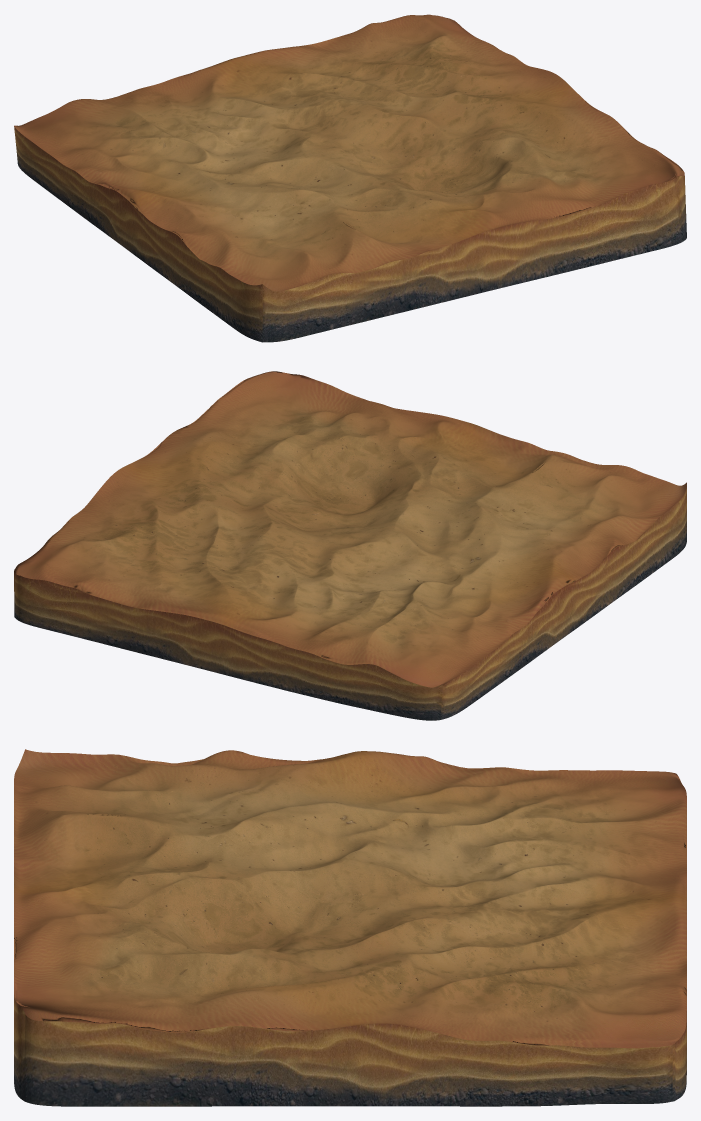
Rendered from desert.gltf.
The picture shows the model from 3 angles, top to bottom: view 1: azimuth 30°, elevation 25°; view 2: azimuth 150°, elevation 25°; view 3: azimuth 270°, elevation 25°; orthographic projection. The views are drawn at different scales.
Visible parts, largest first — view 1: Grid; view 2: Grid; view 3: Grid.
Part boxes in pixels (left/top/right/bottom): Grid: left=14, top=14, right=686, bottom=342; Grid: left=14, top=371, right=686, bottom=720; Grid: left=14, top=749, right=686, bottom=1106.
Bounding box in the file's own units: 250 × 38.5 × 250.
3 materials, 3 textured.
